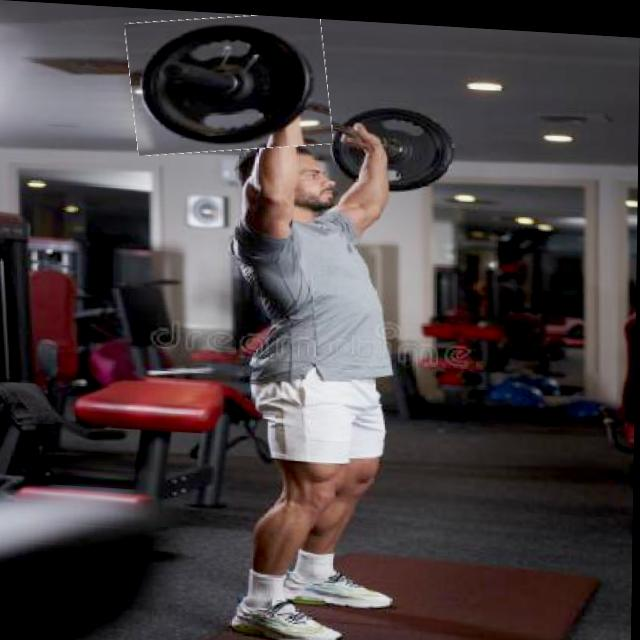barbell: (127, 7, 332, 157)
